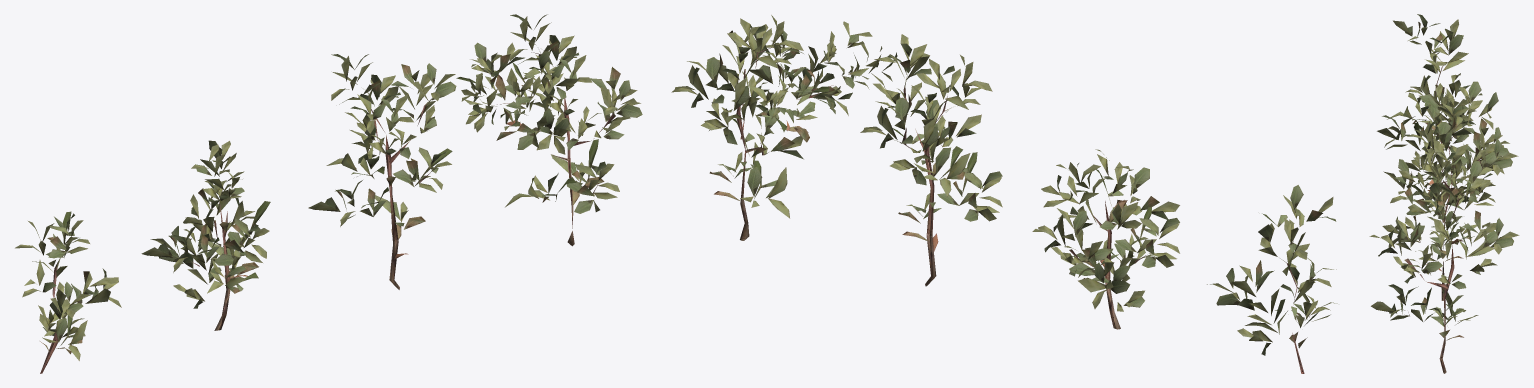
File: shrub2.glb
3 renders of one model, left to right at view 1: azimuth 30°, elevation 25°; view 2: azimuth 150°, elevation 25°; view 3: azimuth 270°, elevation 25°, orthographic. The views are drawn at different scales.
Parts seen in each view (by area): view 1: shrub_04; view 2: shrub_04; view 3: shrub_04.
Boxes of the visible parts, box(x1,y1,x2,y2) form: shrub_04: box(15, 14, 642, 373); shrub_04: box(671, 15, 1337, 373); shrub_04: box(1369, 14, 1519, 373).
Bounding box in the file's own units: 2.13 × 0.7974 × 0.5332.
Materials: 1 (1 with a texture image).
